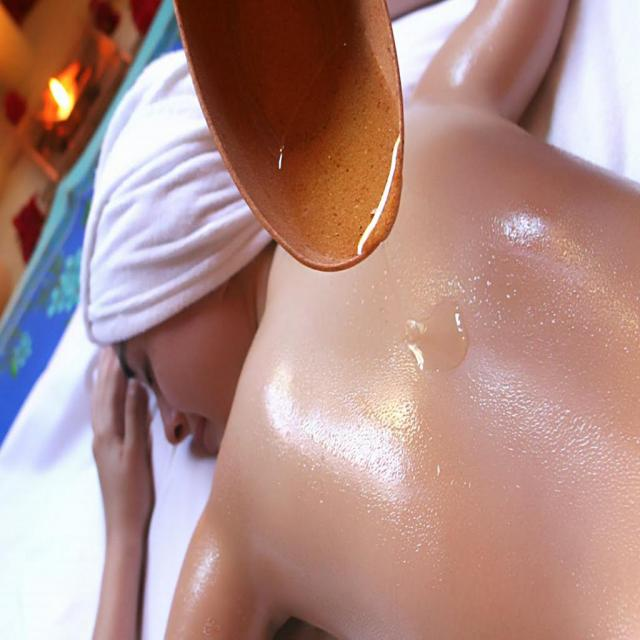nomask: (100, 322, 239, 466)
